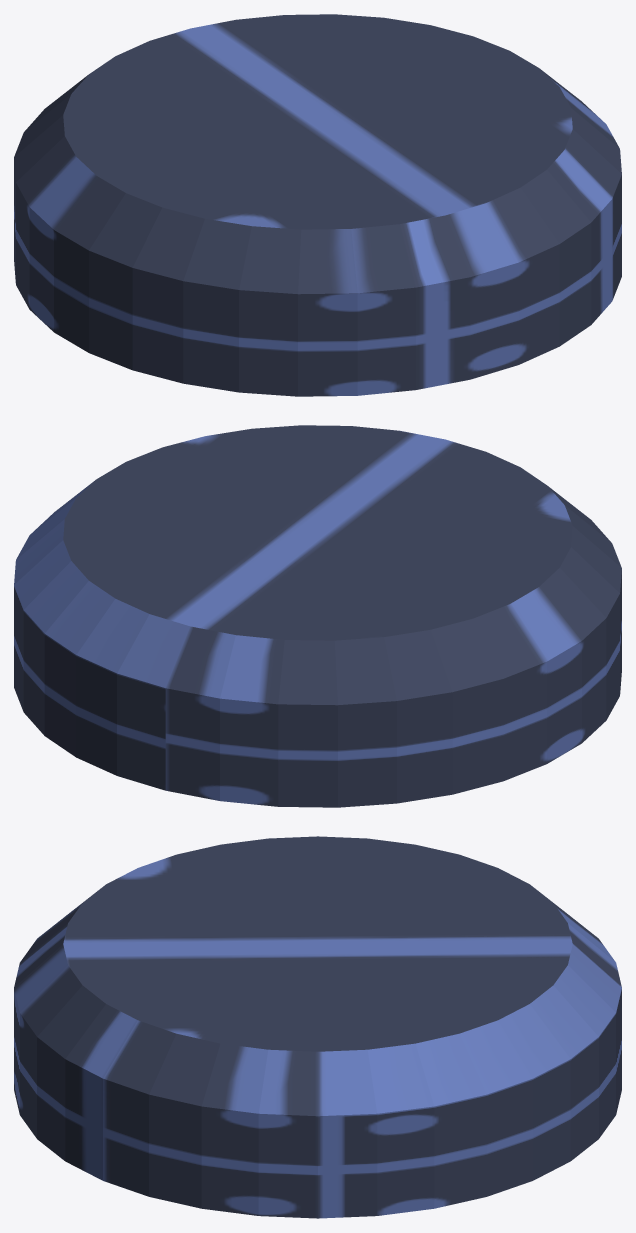
The model's file is 3D button round part.fbx.
3 views of the same model, one above another, from view 1: azimuth 30°, elevation 25°; view 2: azimuth 150°, elevation 25°; view 3: azimuth 270°, elevation 25° (orthographic).
Visible parts, largest first — view 1: Cylinder.003; view 2: Cylinder.003; view 3: Cylinder.003.
Part boxes in pixels (box(x1,y1,x2,y2)): Cylinder.003: box(14, 14, 621, 396); Cylinder.003: box(14, 425, 621, 807); Cylinder.003: box(14, 836, 621, 1218).
Size of the model in its own units: 64.75 by 17.15 by 64.75.
